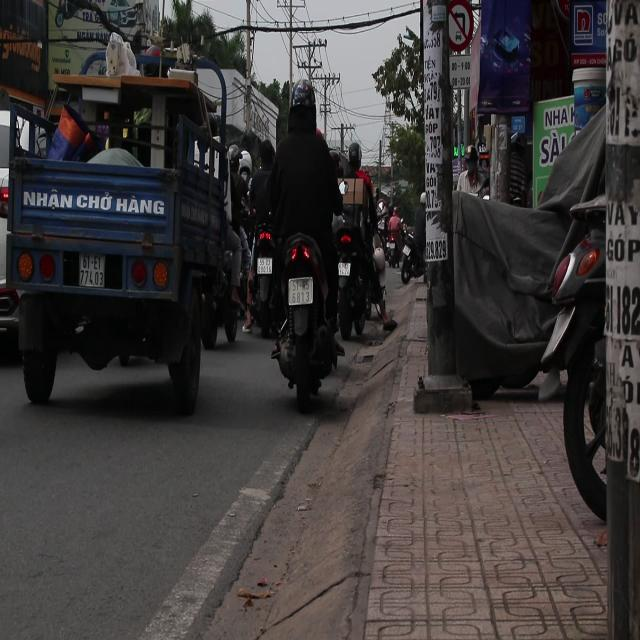motorbike: (272, 227, 344, 411), (333, 187, 385, 341)
